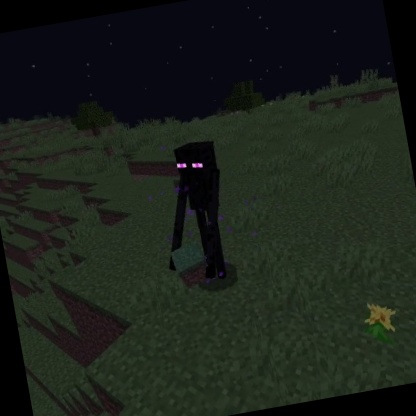enderman: (145, 135, 242, 291)
